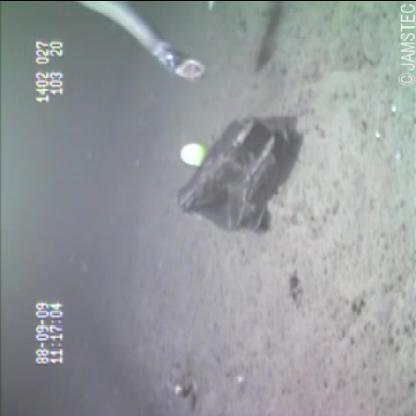Bio: (76, 1, 212, 84)
Rác: (171, 113, 299, 235)
